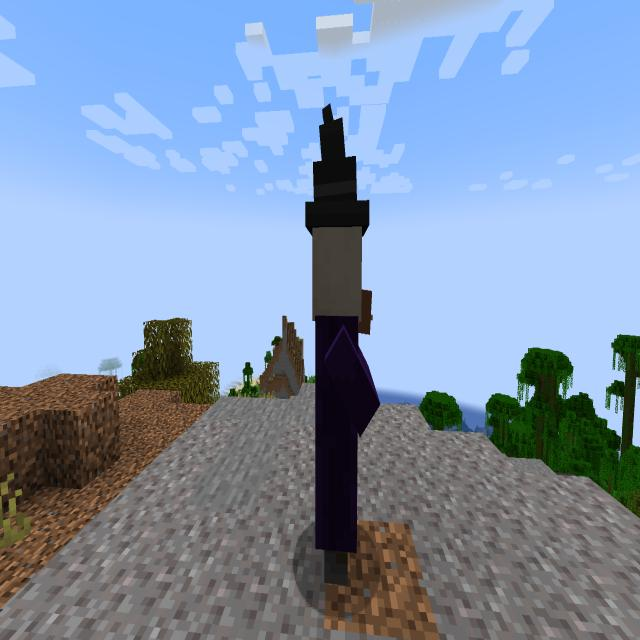Witch: (294, 92, 389, 607)
